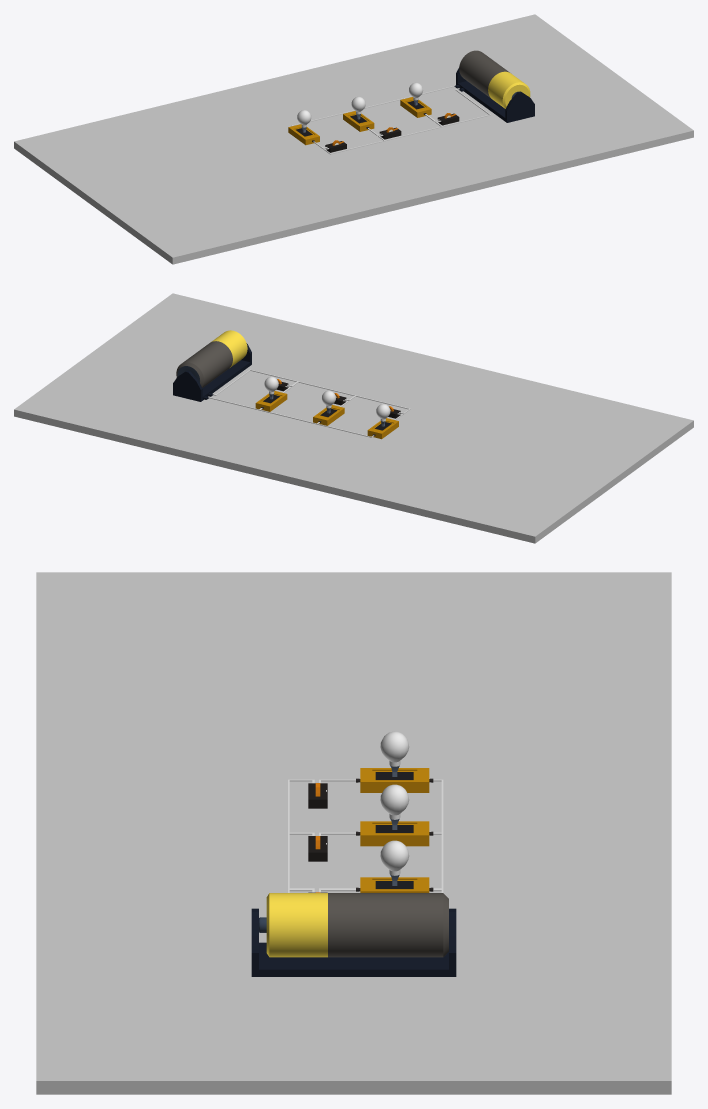
Rendered from physicsTp1_parallel.fbx.
3 renders of one model, top to bottom at view 1: azimuth 30°, elevation 25°; view 2: azimuth 150°, elevation 25°; view 3: azimuth 270°, elevation 25°, orthographic. The views are drawn at different scales.
Visible parts, largest first — view 1: Plane, Cylinder, Cube, lightSource.002, lightSource.001, lightSource.003, Cube.014; view 2: Plane, Cylinder, Cube, lightSource.003, lightSource.002, lightSource.001, Cube.014; view 3: Plane, Cylinder, Cube, lightSource.001, lightSource.002, lightSource.003, Cube.014.
Boxes of the visible parts, left/top/right/bottom form: Plane: left=14, top=14, right=693, bottom=264; Cylinder: left=459, top=50, right=530, bottom=108; Cube: left=454, top=67, right=534, bottom=122; lightSource.002: left=288, top=110, right=319, bottom=145; lightSource.001: left=343, top=96, right=374, bottom=131; lightSource.003: left=400, top=82, right=431, bottom=117; Cube.014: left=313, top=89, right=490, bottom=154; Plane: left=14, top=293, right=693, bottom=543; Cylinder: left=176, top=330, right=247, bottom=387; Cube: left=173, top=343, right=251, bottom=401; lightSource.003: left=255, top=376, right=287, bottom=411; lightSource.002: left=367, top=404, right=398, bottom=439; lightSource.001: left=313, top=390, right=344, bottom=425; Cube.014: left=213, top=369, right=410, bottom=420; Plane: left=36, top=572, right=671, bottom=1094; Cylinder: left=259, top=893, right=448, bottom=957; Cube: left=251, top=908, right=456, bottom=976; lightSource.001: left=356, top=784, right=433, bottom=846; lightSource.002: left=356, top=731, right=433, bottom=792; lightSource.003: left=356, top=840, right=433, bottom=892; Cube.014: left=288, top=779, right=355, bottom=892.
Bounding box in the file's own units: 3748 × 283 × 1978.
